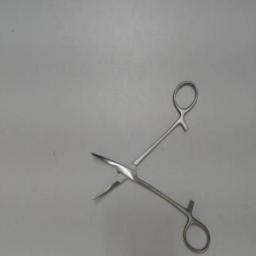Crile Artery Forceps: (84, 74, 216, 254)
